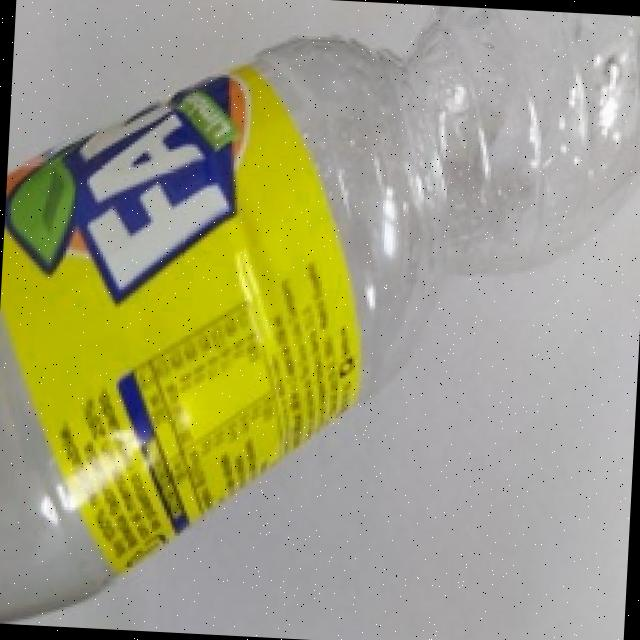bottle: (0, 0, 637, 624)
label: (0, 61, 372, 571)
